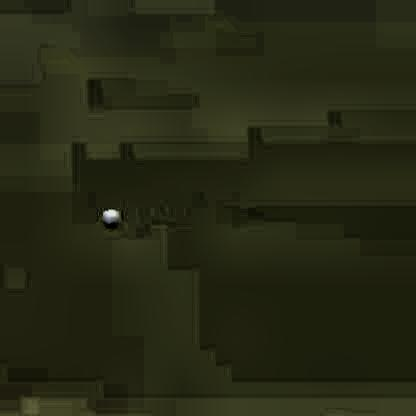golfball: (99, 206, 119, 224)
